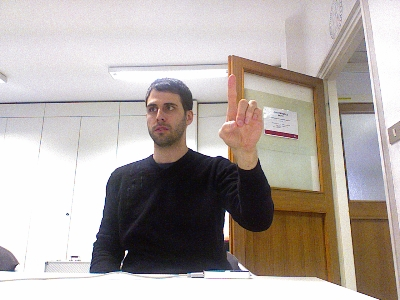食指: (216, 73, 264, 149)
